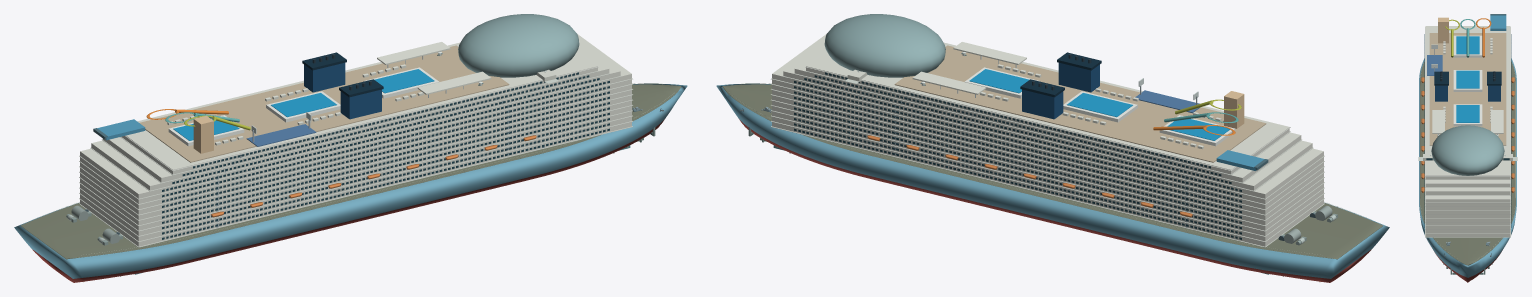
Rendered from icon-of-the-seas.lod1.glb.
3 views of the same model, side by side, from view 1: azimuth 30°, elevation 25°; view 2: azimuth 150°, elevation 25°; view 3: azimuth 270°, elevation 25° (orthographic). The views are drawn at different scales.
Visible parts, largest first — view 1: icon-of-the-seas.structure.hull.outer-hull-shell.1, icon-of-the-seas.cargo.public-decks.upper-sun-deck.1, icon-of-the-seas.structure.decks.main-strength-deck.1, icon-of-the-seas.cargo.aquadome.aquadome-envelope.1, icon-of-the-seas.accommodation.superstructure.deck-13-enclos, icon-of-the-seas.accommodation.superstructure.deck-10-enclos, icon-of-the-seas.accommodation.superstructure.deck-11-enclos, icon-of-the-seas.accommodation.superstructure.deck-12-enclos, icon-of-the-seas.accommodation.superstructure.deck-5-enclosu, icon-of-the-seas.accommodation.superstructure.deck-2-enclosu, icon-of-the-seas.accommodation.superstructure.deck-8-enclosu, icon-of-the-seas.accommodation.superstructure.deck-9-enclosu (+33 smaller); view 2: icon-of-the-seas.structure.hull.outer-hull-shell.1, icon-of-the-seas.cargo.public-decks.upper-sun-deck.1, icon-of-the-seas.structure.decks.main-strength-deck.1, icon-of-the-seas.cargo.aquadome.aquadome-envelope.1, icon-of-the-seas.accommodation.superstructure.deck-13-enclos, icon-of-the-seas.accommodation.superstructure.deck-10-enclos, icon-of-the-seas.accommodation.superstructure.deck-11-enclos, icon-of-the-seas.accommodation.superstructure.deck-12-enclos, icon-of-the-seas.accommodation.superstructure.deck-5-enclosu, icon-of-the-seas.accommodation.superstructure.deck-2-enclosu, icon-of-the-seas.accommodation.superstructure.deck-8-enclosu, icon-of-the-seas.accommodation.superstructure.deck-9-enclosu (+34 smaller); view 3: icon-of-the-seas.cargo.public-decks.upper-sun-deck.1, icon-of-the-seas.cargo.aquadome.aquadome-envelope.1, icon-of-the-seas.accommodation.superstructure.deck-13-enclos, icon-of-the-seas.structure.decks.main-strength-deck.1, icon-of-the-seas.structure.hull.outer-hull-shell.1, icon-of-the-seas.accommodation.superstructure.deck-11-enclos, icon-of-the-seas.accommodation.superstructure.deck-10-enclos, icon-of-the-seas.accommodation.superstructure.deck-12-enclos, icon-of-the-seas.cargo.public-decks.pool-water-surface-2.1, icon-of-the-seas.cargo.public-decks.pool-water-surface-3.1, icon-of-the-seas.accommodation.superstructure.deck-7-enclosu, icon-of-the-seas.cargo.public-decks.pool-water-surface-1.1 (+39 smaller).
Boxes of the visible parts, bbox=[...] form: icon-of-the-seas.structure.hull.outer-hull-shell.1: bbox=[14, 83, 687, 278]; icon-of-the-seas.cargo.public-decks.upper-sun-deck.1: bbox=[139, 45, 509, 162]; icon-of-the-seas.structure.decks.main-strength-deck.1: bbox=[21, 84, 681, 259]; icon-of-the-seas.cargo.aquadome.aquadome-envelope.1: bbox=[458, 14, 579, 77]; icon-of-the-seas.accommodation.superstructure.deck-13-enclos: bbox=[121, 42, 597, 174]; icon-of-the-seas.accommodation.superstructure.deck-10-enclos: bbox=[80, 34, 631, 198]; icon-of-the-seas.accommodation.superstructure.deck-11-enclos: bbox=[91, 41, 620, 190]; icon-of-the-seas.accommodation.superstructure.deck-12-enclos: bbox=[102, 47, 609, 182]; icon-of-the-seas.accommodation.superstructure.deck-5-enclosu: bbox=[80, 101, 631, 225]; icon-of-the-seas.accommodation.superstructure.deck-2-enclosu: bbox=[80, 116, 631, 241]; icon-of-the-seas.accommodation.superstructure.deck-8-enclosu: bbox=[80, 85, 631, 209]; icon-of-the-seas.accommodation.superstructure.deck-9-enclosu: bbox=[80, 79, 631, 203]; icon-of-the-seas.structure.hull.outer-hull-shell.1: bbox=[716, 83, 1389, 278]; icon-of-the-seas.cargo.public-decks.upper-sun-deck.1: bbox=[894, 45, 1266, 162]; icon-of-the-seas.structure.decks.main-strength-deck.1: bbox=[722, 84, 1382, 259]; icon-of-the-seas.cargo.aquadome.aquadome-envelope.1: bbox=[824, 14, 945, 77]; icon-of-the-seas.accommodation.superstructure.deck-13-enclos: bbox=[806, 42, 1289, 174]; icon-of-the-seas.accommodation.superstructure.deck-10-enclos: bbox=[772, 34, 1323, 198]; icon-of-the-seas.accommodation.superstructure.deck-11-enclos: bbox=[783, 41, 1312, 190]; icon-of-the-seas.accommodation.superstructure.deck-12-enclos: bbox=[794, 47, 1301, 182]; icon-of-the-seas.accommodation.superstructure.deck-5-enclosu: bbox=[772, 101, 1323, 225]; icon-of-the-seas.accommodation.superstructure.deck-2-enclosu: bbox=[772, 116, 1323, 241]; icon-of-the-seas.accommodation.superstructure.deck-8-enclosu: bbox=[772, 85, 1323, 209]; icon-of-the-seas.accommodation.superstructure.deck-9-enclosu: bbox=[772, 79, 1323, 203]; icon-of-the-seas.cargo.public-decks.upper-sun-deck.1: bbox=[1429, 33, 1506, 145]; icon-of-the-seas.cargo.aquadome.aquadome-envelope.1: bbox=[1431, 125, 1504, 175]; icon-of-the-seas.accommodation.superstructure.deck-13-enclos: bbox=[1425, 26, 1510, 179]; icon-of-the-seas.structure.decks.main-strength-deck.1: bbox=[1420, 62, 1515, 265]; icon-of-the-seas.structure.hull.outer-hull-shell.1: bbox=[1419, 58, 1516, 277]; icon-of-the-seas.accommodation.superstructure.deck-11-enclos: bbox=[1425, 26, 1510, 194]; icon-of-the-seas.accommodation.superstructure.deck-10-enclos: bbox=[1425, 195, 1510, 202]; icon-of-the-seas.accommodation.superstructure.deck-12-enclos: bbox=[1425, 179, 1510, 186]; icon-of-the-seas.cargo.public-decks.pool-water-surface-2.1: bbox=[1456, 70, 1479, 88]; icon-of-the-seas.cargo.public-decks.pool-water-surface-3.1: bbox=[1456, 105, 1479, 122]; icon-of-the-seas.accommodation.superstructure.deck-7-enclosu: bbox=[1425, 210, 1510, 214]; icon-of-the-seas.cargo.public-decks.pool-water-surface-1.1: bbox=[1456, 36, 1479, 54].
Size of the model in its own units: 365 by 74.58 by 66.79.
